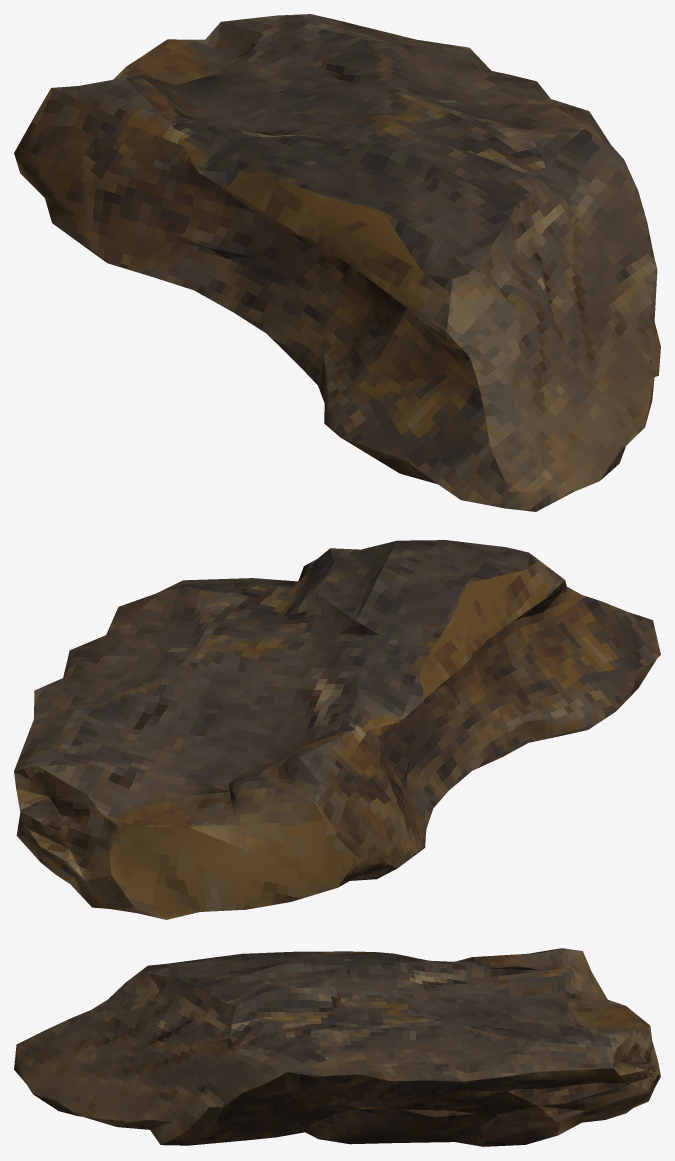
Rendered from rock_09.glb.
The picture shows the model from 3 angles, top to bottom: view 1: azimuth 30°, elevation 25°; view 2: azimuth 150°, elevation 25°; view 3: azimuth 270°, elevation 25°; orthographic projection. The views are drawn at different scales.
Visible parts, largest first — view 1: rock_09; view 2: rock_09; view 3: rock_09.
Boxes of the visible parts, x1,y1,x2,y2 form: rock_09: (14, 14, 660, 511); rock_09: (14, 540, 660, 919); rock_09: (14, 948, 660, 1146).
Size of the model in its own units: 0.0742 by 0.0332 by 0.1441.
Materials: 1 (1 with a texture image).
